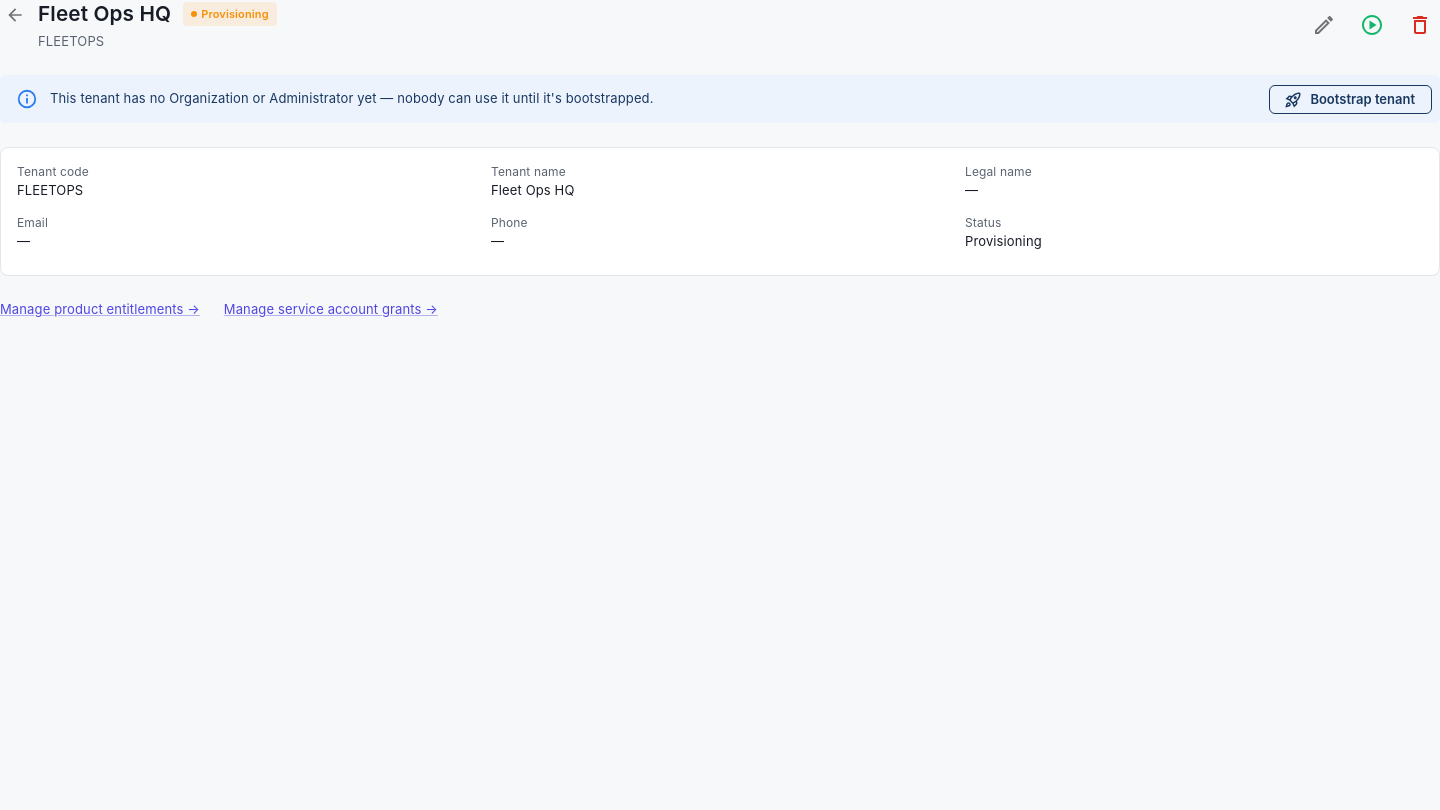
PlatformTenantDetailPage — tenant bootstrap › collects no password anywhere in the wizard — administrator activation is invitation-only
This screenshot has width=1440, height=810.
Step 1. Click the button "Bootstrap tenant" → (1351, 100), box x1=1269 y1=85 x2=1432 y2=114
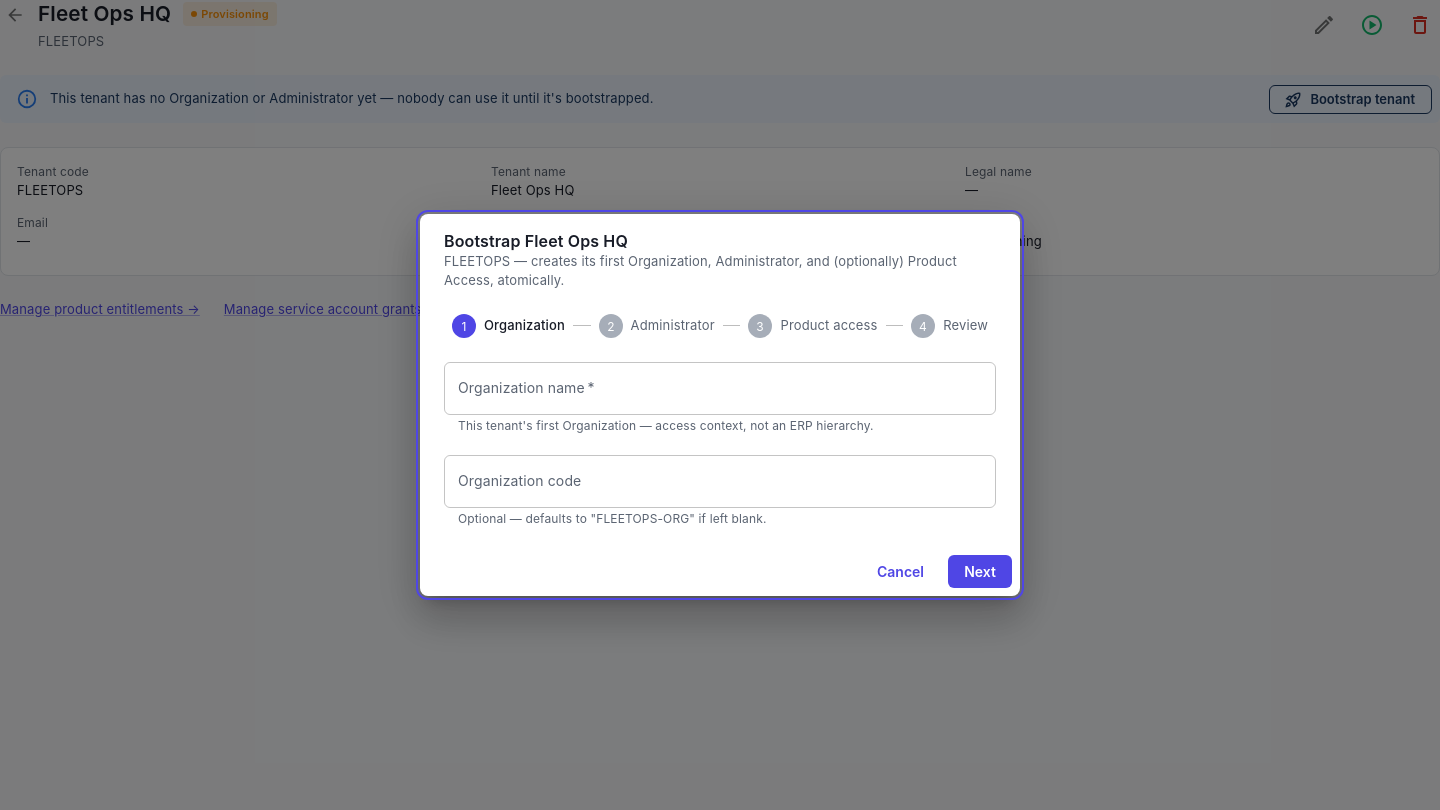
Note: Step 2 — Administrator.
Step 2. Type "Fleet Ops Org" into the field labelled "Organization name *" → (720, 388), box x1=444 y1=362 x2=996 y2=415
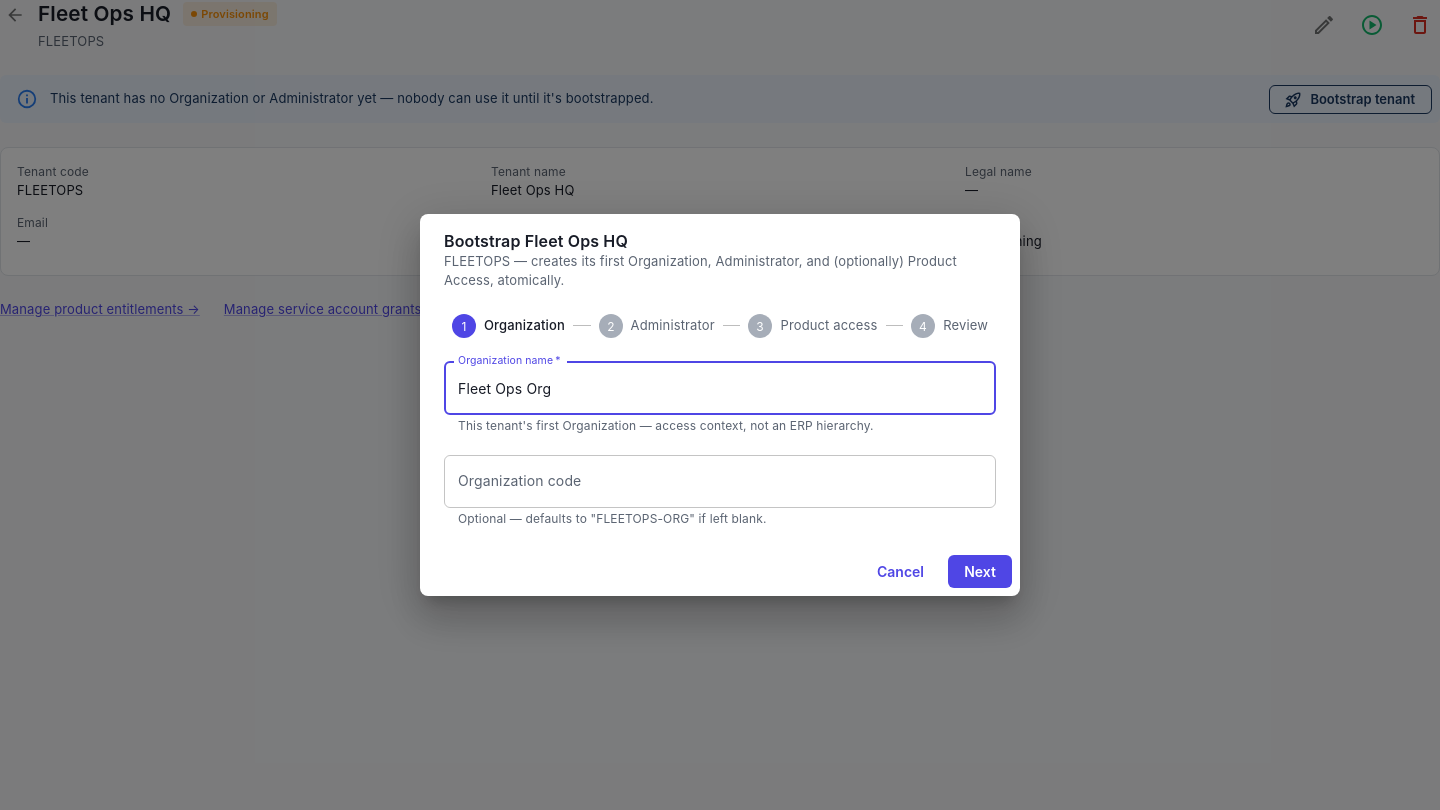
Step 3. Click the button "Next" → (980, 572), box x1=948 y1=556 x2=1012 y2=588
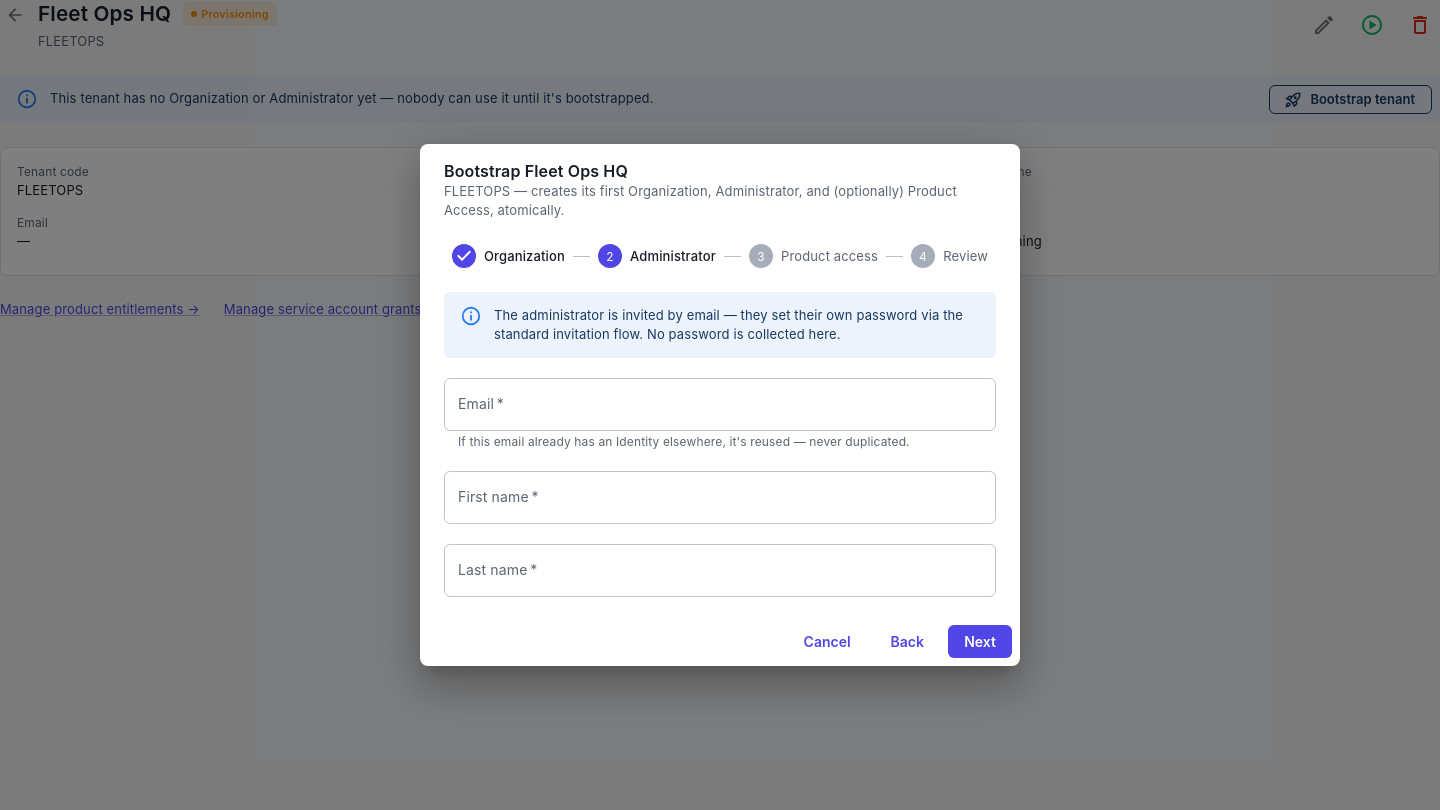
expect the text "set their own password via the standard invitation flow" is shown: met, box x1=494 y1=307 x2=963 y2=342
